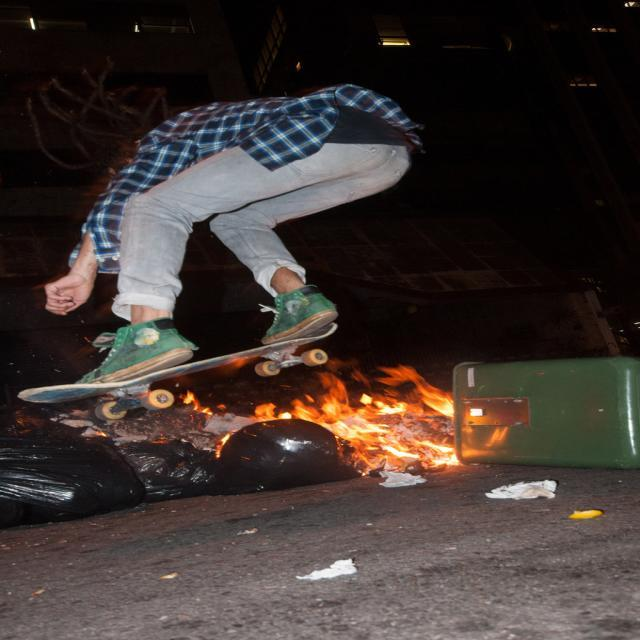Fire: (239, 372, 507, 472)
